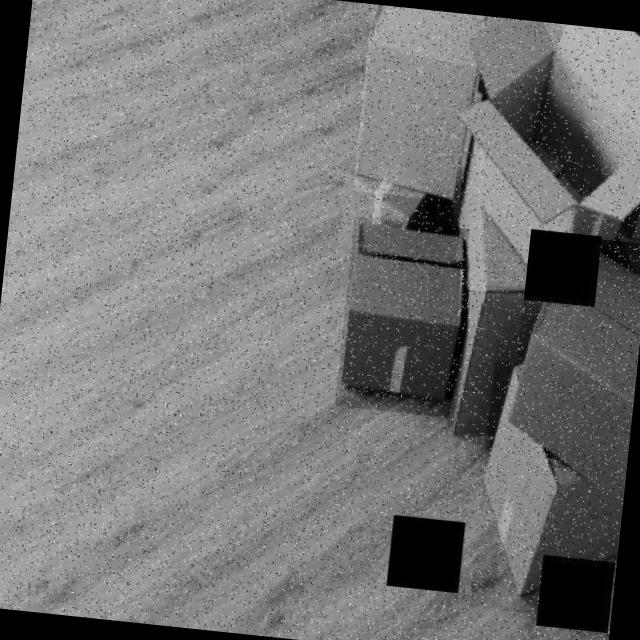box: (445, 14, 640, 307), (468, 360, 636, 621), (506, 231, 640, 475), (352, 4, 490, 203), (335, 216, 470, 418)
